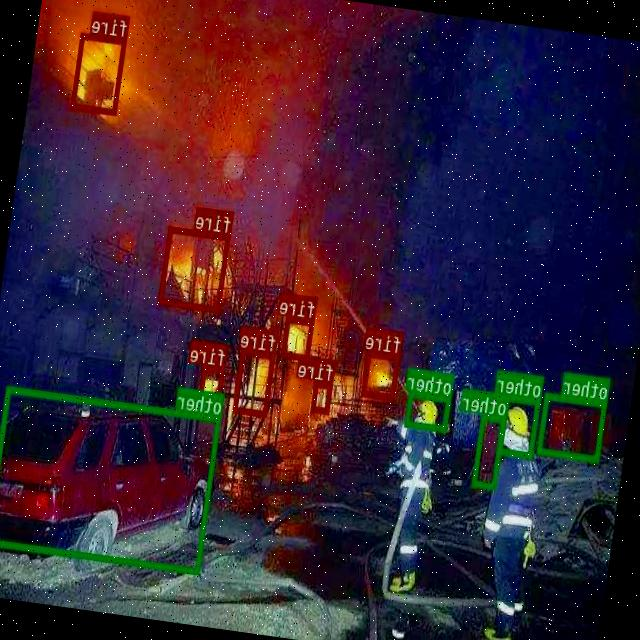fire: (159, 225, 232, 312), (72, 31, 128, 114), (234, 348, 276, 416), (362, 349, 401, 400), (282, 315, 316, 360), (199, 364, 226, 407), (312, 380, 334, 412)
